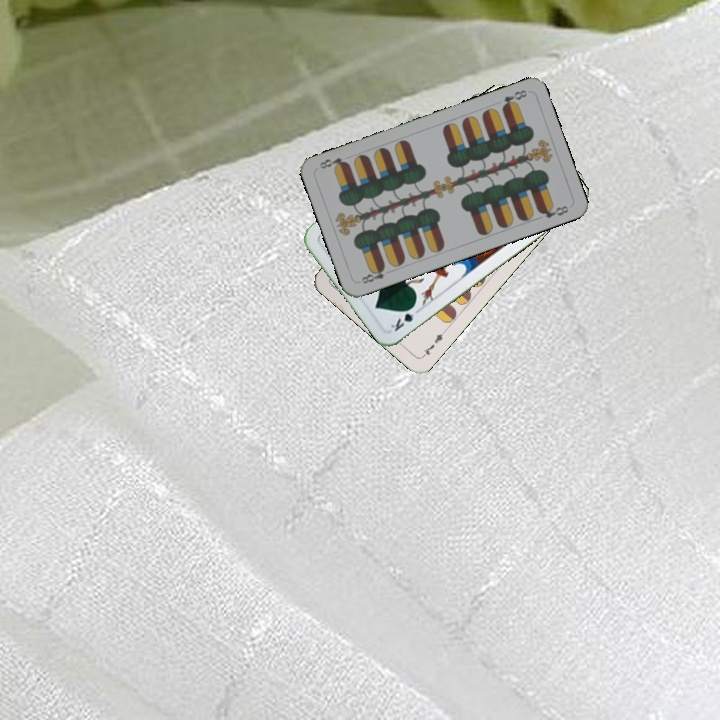E7: (418, 326, 449, 360)
E8: (498, 86, 530, 112), (357, 262, 388, 286)
GK: (387, 301, 423, 334)
